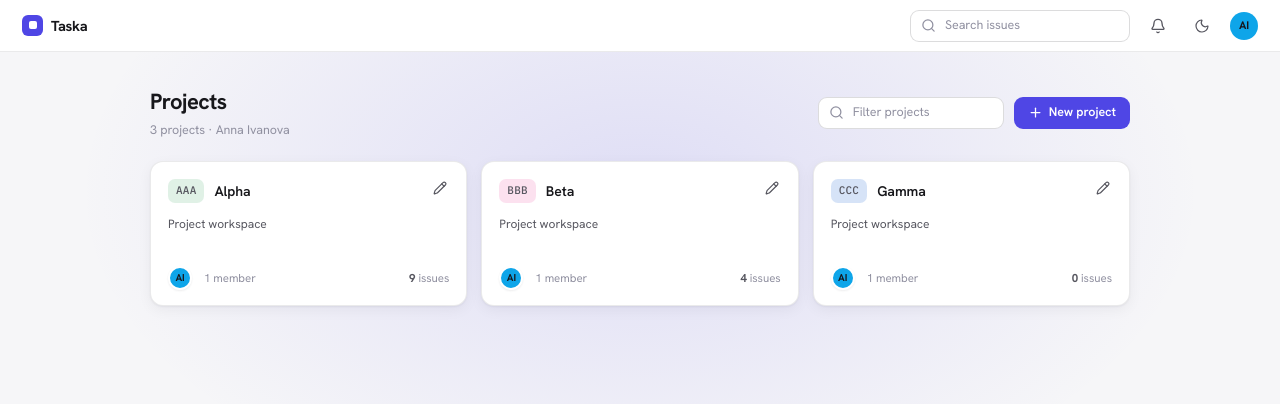
Test: filtering the project list › keeps the heading count honest about what it is showing
Check: the text "3 projects · Anna Ivanova" is shown, box [150,121,290,139]
Type "a" into the field with placeholder "Filter projects". click: (922, 112)
box: [851,102,993,122]
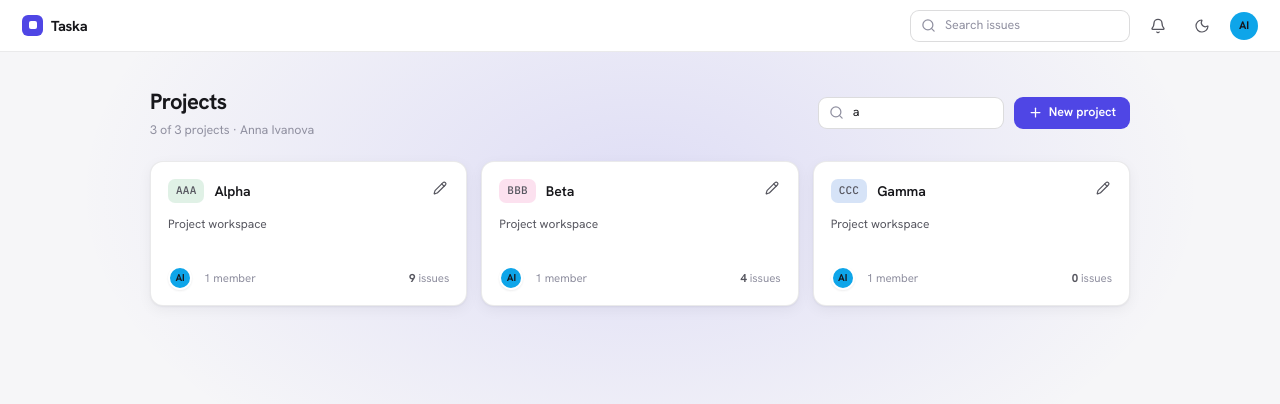
Check: the text "3 of 3 projects · Anna Ivanova" is shown, box [150,121,314,139]
Replace the text in the field with placeholder "Filter projects" with "bet". click: (922, 112)
box: [851,102,993,122]
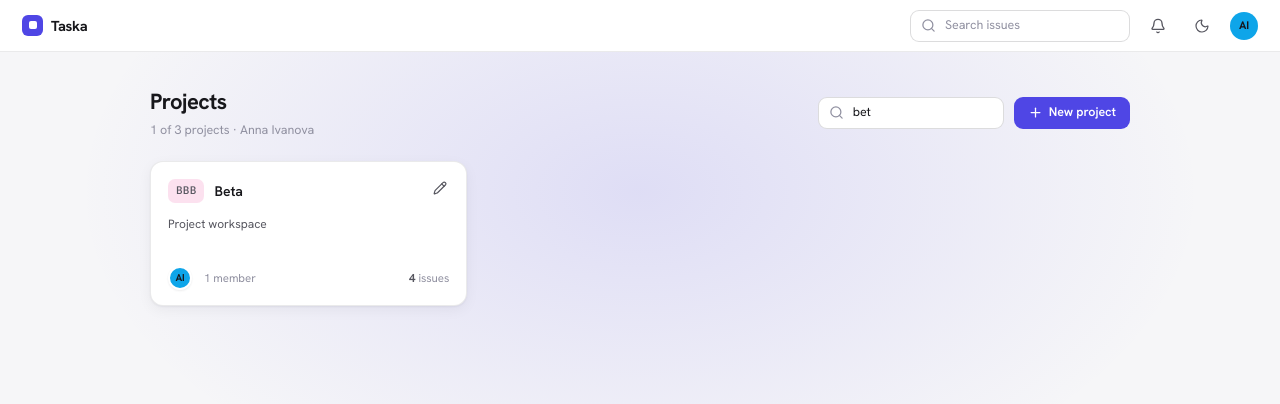
Check: the text "1 of 3 projects · Anna Ivanova" is shown, box [150,121,314,139]
